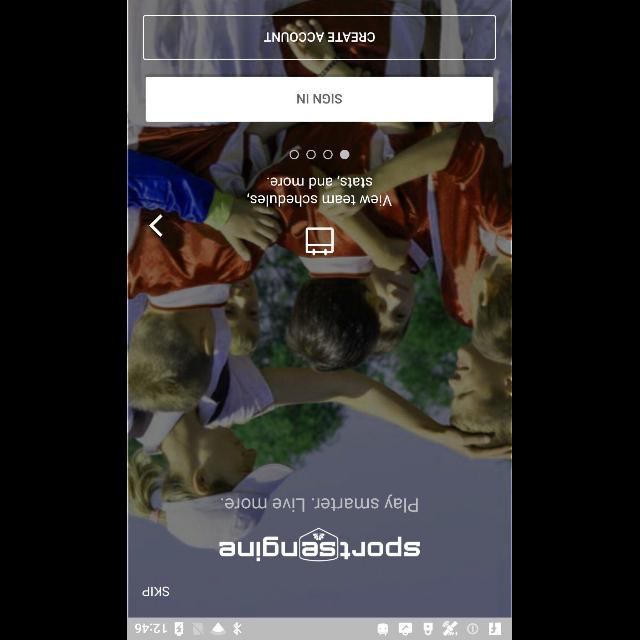backgroundimage: (128, 0, 512, 618)
icon: (149, 213, 165, 239)
image: (220, 527, 420, 561), (306, 227, 334, 256)
pageindicator: (290, 148, 350, 160)
text: (248, 176, 392, 207), (222, 495, 418, 513), (142, 586, 170, 596)
textbutton: (146, 76, 494, 122), (144, 15, 496, 60)
uppertaskbar: (128, 617, 512, 639)
